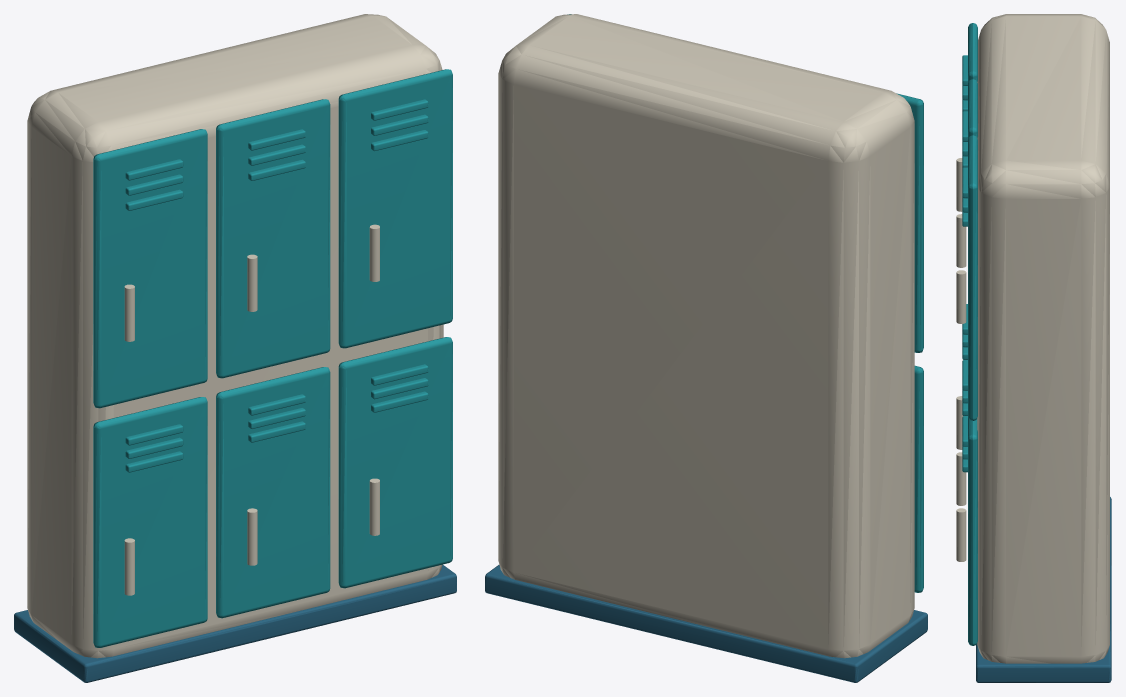
File: 11_standard_lockers.glb
The picture shows the model from 3 angles, left to right: view 1: azimuth 30°, elevation 25°; view 2: azimuth 150°, elevation 25°; view 3: azimuth 270°, elevation 25°; orthographic projection. The views are drawn at different scales.
Visible parts, largest first — view 1: 11_standard_lockers__Static; view 2: 11_standard_lockers__Static; view 3: 11_standard_lockers__Static.
Part boxes in pixels (bbox=[...]): 11_standard_lockers__Static: bbox=[14, 14, 456, 682]; 11_standard_lockers__Static: bbox=[485, 14, 927, 682]; 11_standard_lockers__Static: bbox=[956, 14, 1111, 682].
Size of the model in its own units: 1.4 by 1.95 by 0.537.
